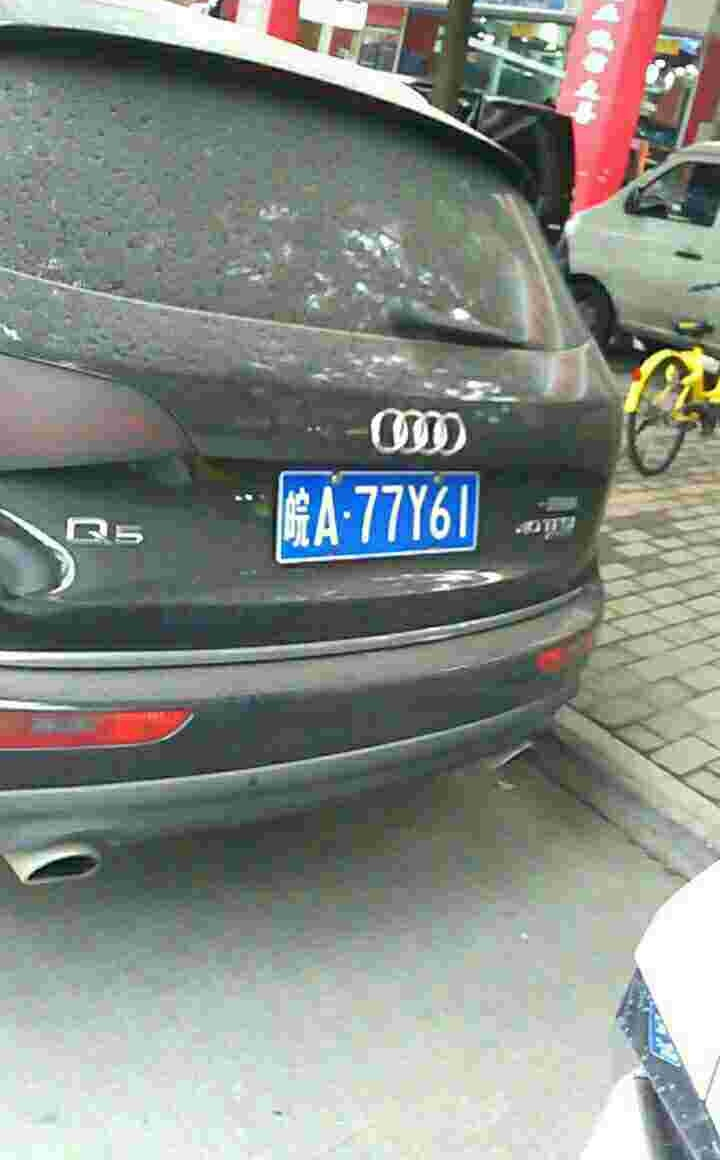license_plate: (287, 469, 491, 565)
